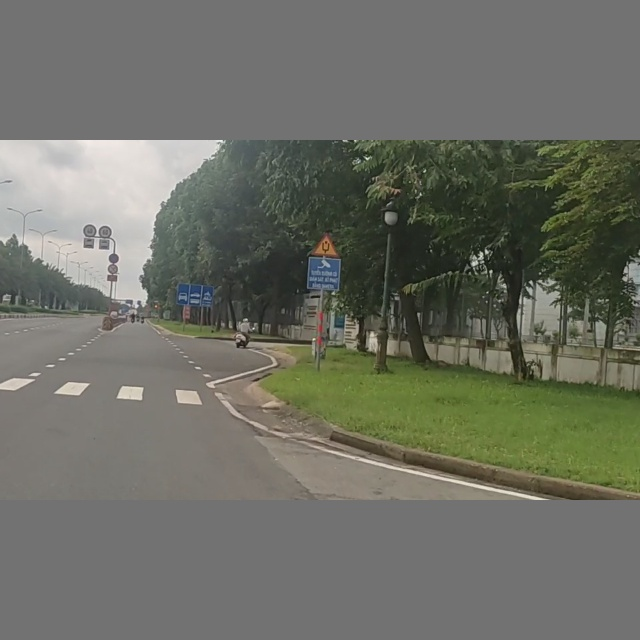W.246a: (309, 231, 342, 257)
